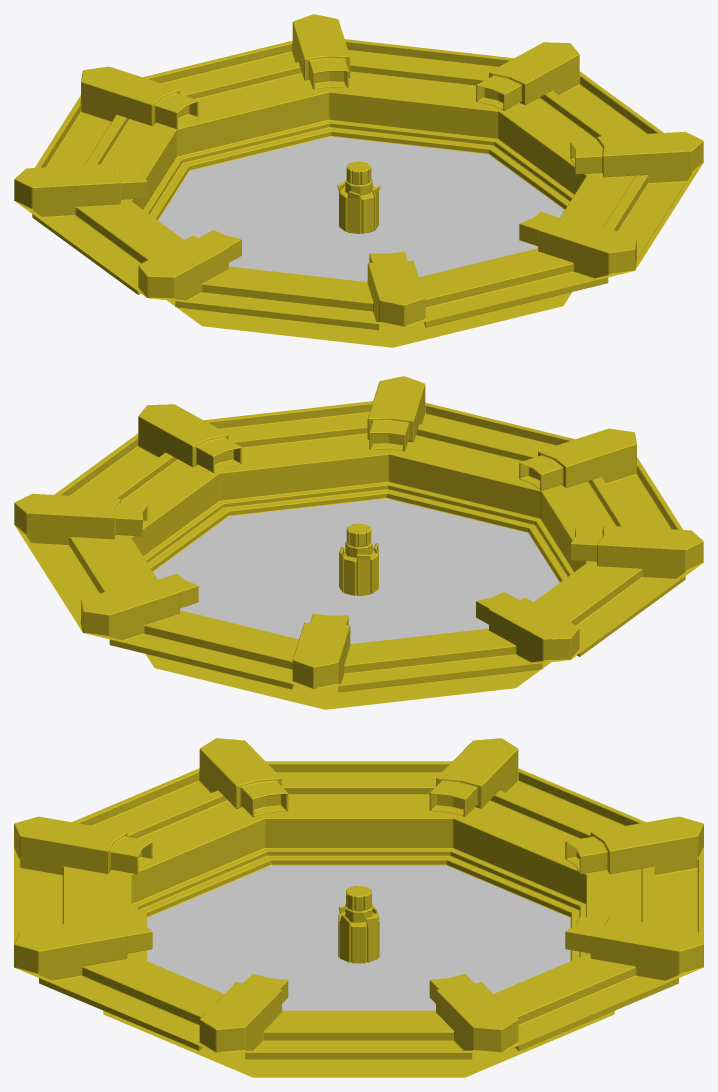
Rendered from Slightly better Arena.fbx.
The picture shows the model from 3 angles, top to bottom: view 1: azimuth 30°, elevation 25°; view 2: azimuth 150°, elevation 25°; view 3: azimuth 270°, elevation 25°; orthographic projection. The views are drawn at different scales.
Visible parts, largest first — view 1: Cylinder.005, Cylinder.006; view 2: Cylinder.005, Cylinder.006; view 3: Cylinder.005, Cylinder.006.
Part boxes in pixels (bbox=[...]): Cylinder.005: bbox=[14, 14, 703, 347]; Cylinder.006: bbox=[337, 161, 380, 233]; Cylinder.005: bbox=[14, 376, 703, 709]; Cylinder.006: bbox=[339, 523, 378, 595]; Cylinder.005: bbox=[14, 738, 703, 1077]; Cylinder.006: bbox=[338, 886, 379, 963].
Bounding box in the file's own units: 2195 × 302 × 2195.
